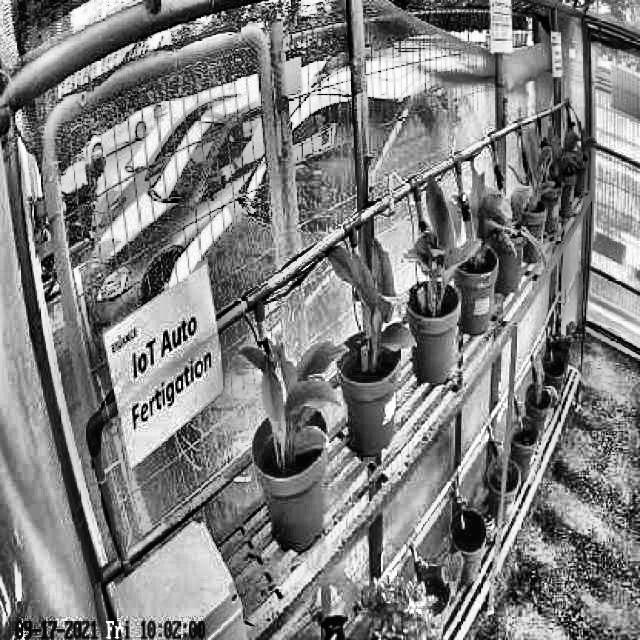plants: (242, 337, 346, 465), (326, 244, 416, 358), (404, 174, 478, 296), (464, 164, 513, 266), (525, 137, 553, 214), (576, 118, 598, 166)
